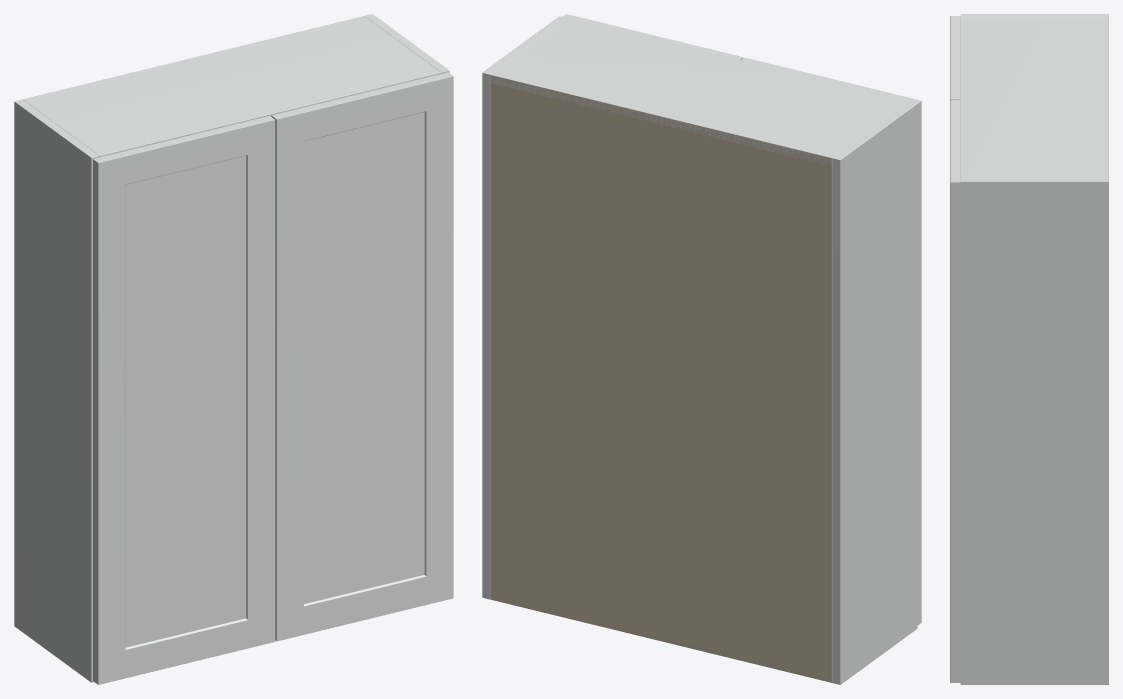
The model's file is PLY-WSS-W3042.glb.
The picture shows the model from 3 angles, left to right: view 1: azimuth 30°, elevation 25°; view 2: azimuth 150°, elevation 25°; view 3: azimuth 270°, elevation 25°; orthographic projection. The views are drawn at different scales.
Parts seen in each view (by area): view 1: Shaker door, Shaker door.001, Carcass left, Carcass top, Carcass right; view 2: Carcass back, Carcass left, Carcass top, Carcass right, Shaker door, Carcass bottom, Shaker door.001; view 3: Carcass right, Carcass top, Shaker door.001, Shaker door, Carcass left.
Boxes of the visible parts, x1,y1,x2,y2 form: Shaker door: [93, 116, 275, 684]; Shaker door.001: [271, 72, 453, 641]; Carcass left: [14, 99, 99, 682]; Carcass top: [23, 16, 441, 157]; Carcass right: [364, 14, 449, 73]; Carcass back: [490, 75, 832, 682]; Carcass left: [832, 101, 917, 684]; Carcass top: [490, 18, 908, 165]; Carcass right: [482, 16, 567, 599]; Shaker door: [741, 57, 921, 625]; Carcass bottom: [490, 591, 832, 682]; Shaker door.001: [562, 14, 743, 60]; Carcass right: [960, 177, 1108, 684]; Carcass top: [960, 18, 1108, 177]; Shaker door.001: [950, 99, 960, 682]; Shaker door: [950, 16, 960, 99]; Carcass left: [960, 14, 1108, 17].
Bounding box in the file's own units: 0.762 × 1.07 × 0.3048.
